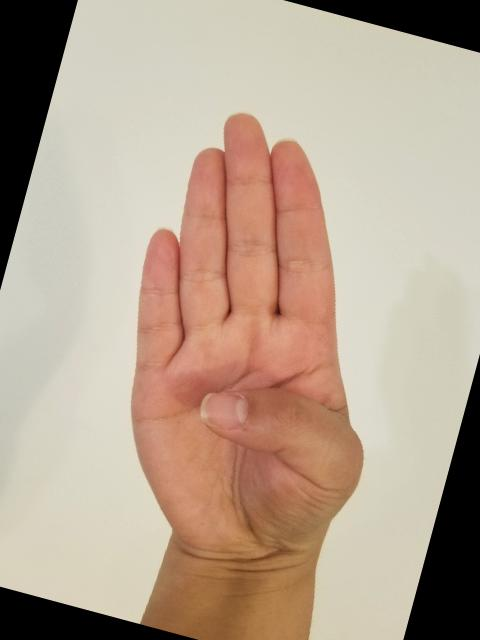B: (64, 90, 454, 602)
